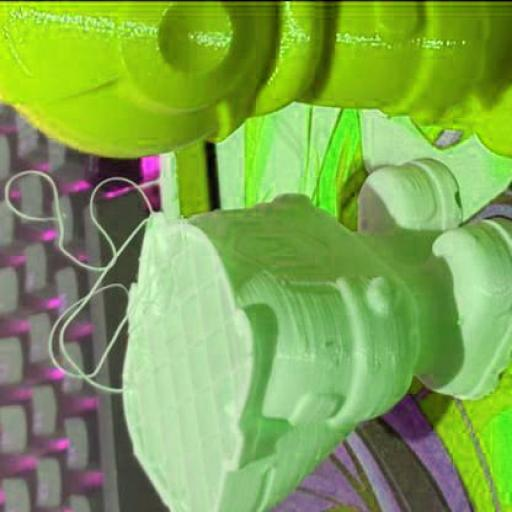spaghetti: (2, 169, 158, 395)
